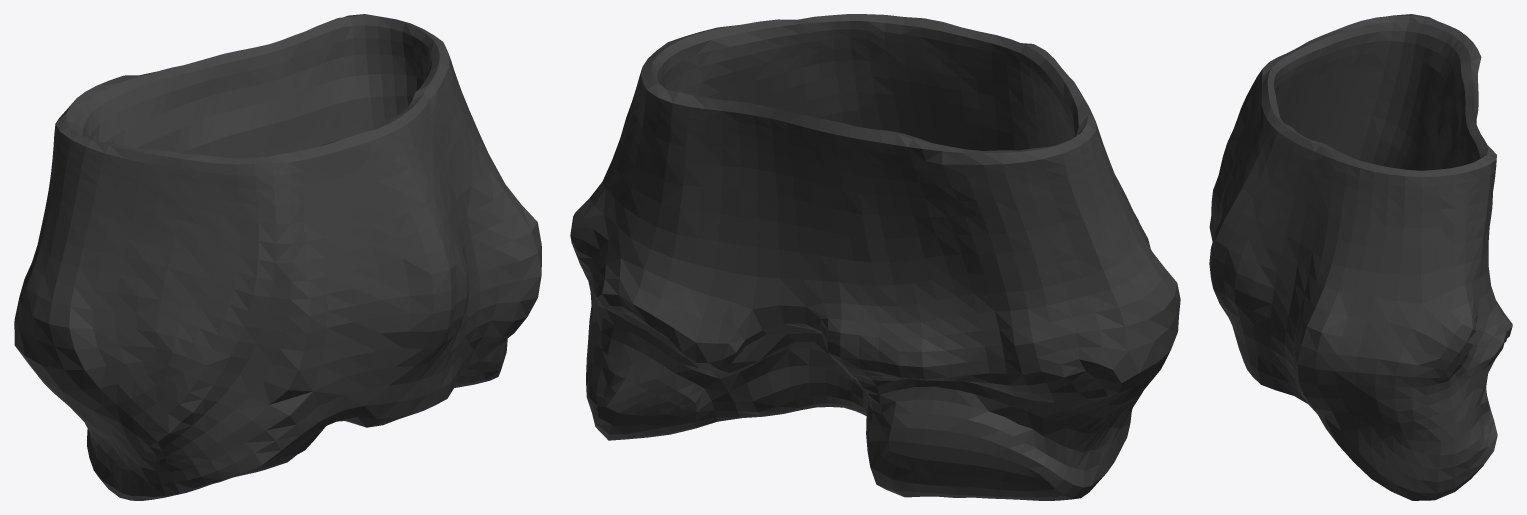
File: Radius.glb
3 views of the same model, side by side, from view 1: azimuth 30°, elevation 25°; view 2: azimuth 150°, elevation 25°; view 3: azimuth 270°, elevation 25° (orthographic). The views are drawn at different scales.
Parts seen in each view (by area): view 1: Radius; view 2: Radius; view 3: Radius.
Part boxes in pixels (x1,y1,x2,y2): Radius: [14, 14, 541, 500]; Radius: [570, 14, 1180, 500]; Radius: [1209, 14, 1512, 500].
Bounding box in the file's own units: 87.24 × 60.35 × 52.35.
1 material, 1 textured.
